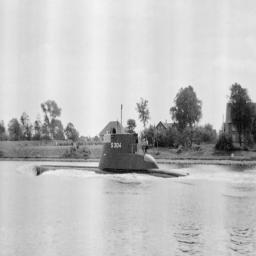submarine: (34, 135, 189, 179)
